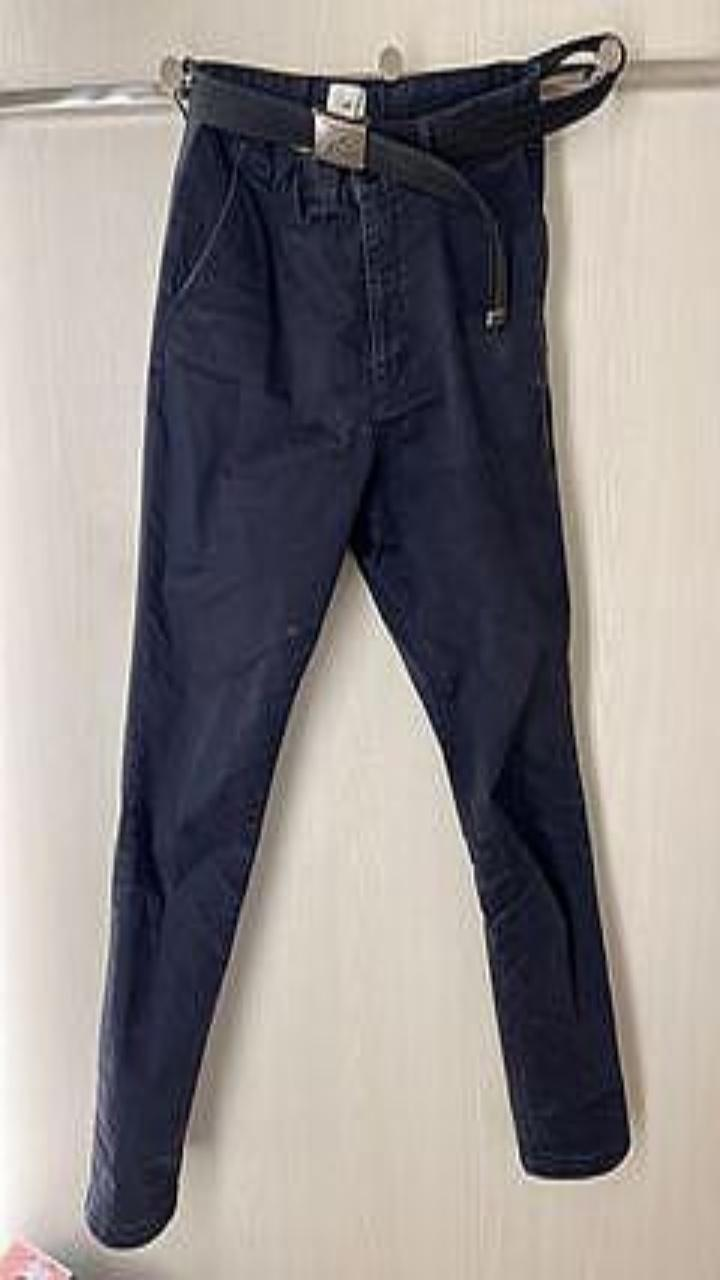Jeans: (85, 120, 628, 1246)
